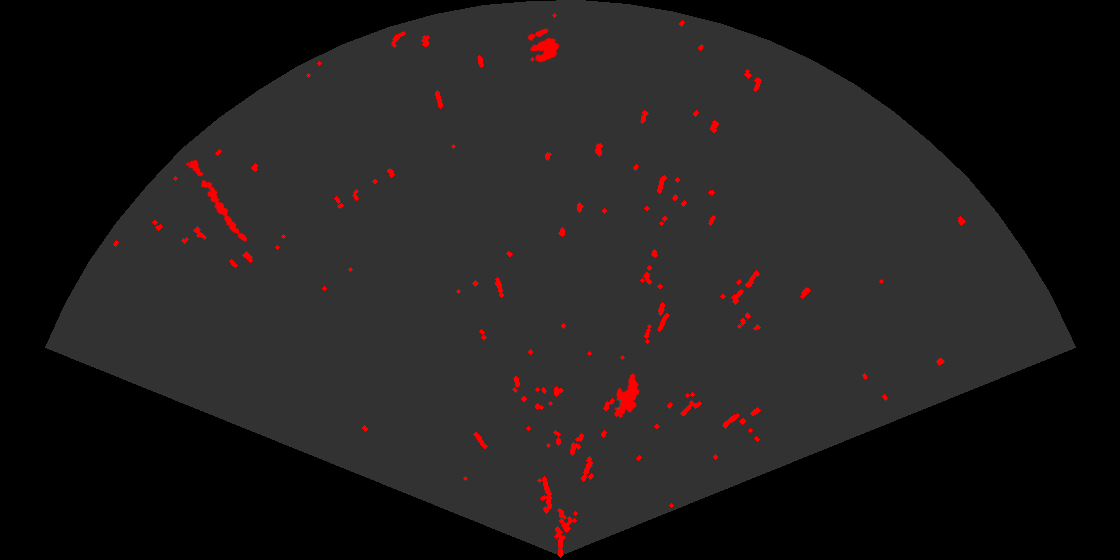AUV: (613, 372, 641, 420)
ball: (526, 27, 561, 64)
chain: (187, 158, 249, 243)
